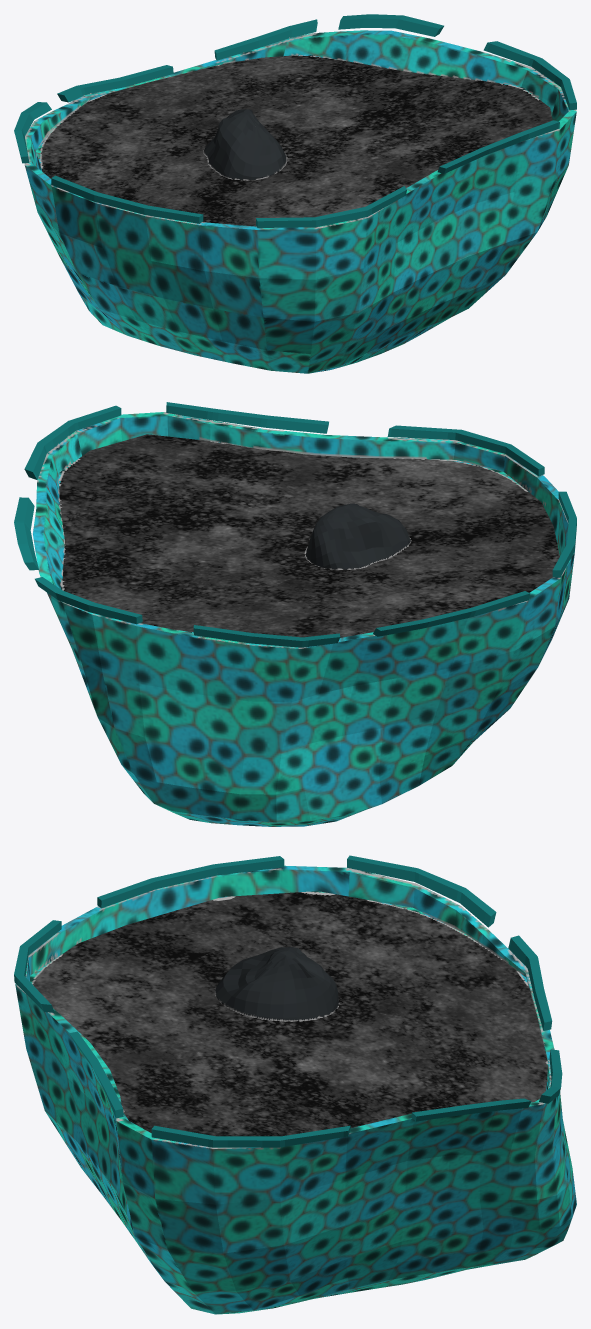
The model's file is Núcleo.obj.
3 renders of one model, top to bottom at view 1: azimuth 30°, elevation 25°; view 2: azimuth 150°, elevation 25°; view 3: azimuth 270°, elevation 25°, orthographic. The views are drawn at different scales.
Parts seen in each view (by area): view 1: Sphere_Sphere.003; view 2: Sphere_Sphere.003; view 3: Sphere_Sphere.003.
Part boxes in pixels (x1,y1,x2,y2): Sphere_Sphere.003: (14,14,576,373); Sphere_Sphere.003: (14,402,576,826); Sphere_Sphere.003: (14,855,576,1314).
Size of the model in its own units: 1.89 by 0.8954 by 1.58.
